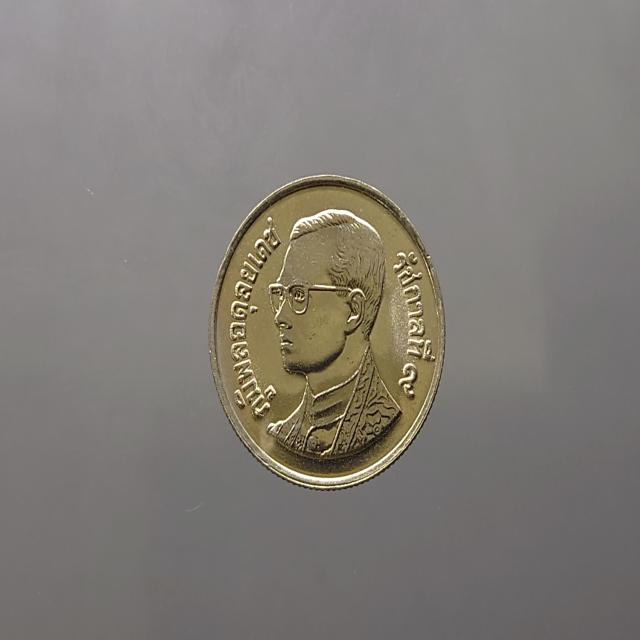1 Bath: (206, 172, 456, 502)
